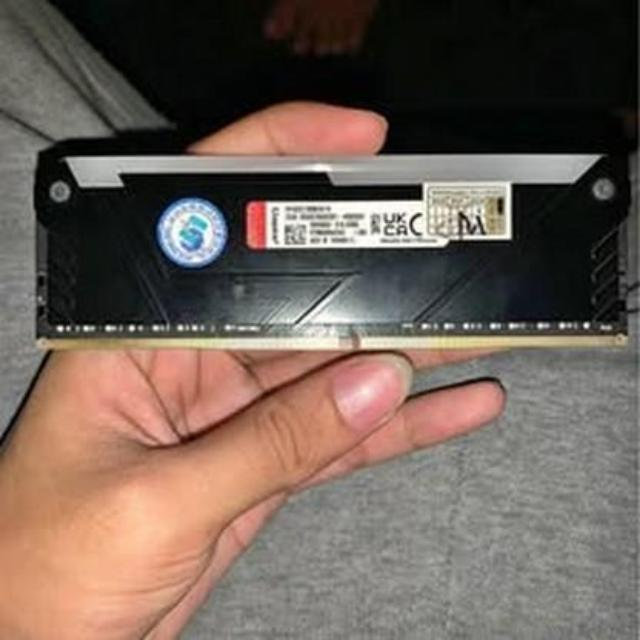RAM: (12, 135, 640, 387)
